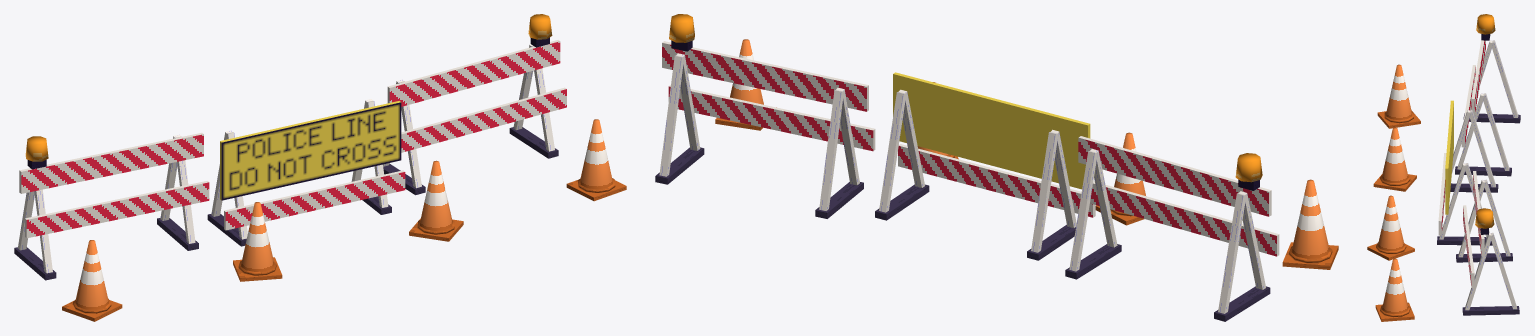
File: Police Roadblock.fbx
3 renders of one model, left to right at view 1: azimuth 30°, elevation 25°; view 2: azimuth 150°, elevation 25°; view 3: azimuth 270°, elevation 25°, orthographic. The views are drawn at different scales.
Parts seen in each view (by area): view 1: Police Roadblock barricade C top board, Police Roadblock barricade R top board, Police Roadblock barricade L top board, Police Roadblock barricade R low board, Police Roadblock barricade C low board, Police Roadblock barricade L low board, Police Roadblock cone 3 cone, Police Roadblock cone 2 cone, Police Roadblock cone 1 cone, Police Roadblock cone 0 cone, Police Roadblock barricade L leg -1 -1, Police Roadblock barricade R leg 1 -1 (+12 smaller); view 2: Police Roadblock barricade C top board, Police Roadblock barricade L top board, Police Roadblock barricade R top board, Police Roadblock barricade L low board, Police Roadblock barricade R low board, Police Roadblock barricade C low board, Police Roadblock cone 3 cone, Police Roadblock barricade R leg 1 1, Police Roadblock barricade C leg -1 1, Police Roadblock barricade R leg -1 1, Police Roadblock barricade C leg 1 1, Police Roadblock barricade L leg 1 1 (+18 smaller); view 3: Police Roadblock cone 2 cone, Police Roadblock cone 1 cone, Police Roadblock cone 0 cone, Police Roadblock cone 3 cone, Police Roadblock barricade C top board, Police Roadblock barricade L foot 1, Police Roadblock barricade R top board, Police Roadblock barricade R leg -1 1, Police Roadblock barricade R leg 1 1, Police Roadblock barricade L low board, Police Roadblock barricade C leg -1 1, Police Roadblock barricade L leg 1 -1 (+26 smaller).
Boxes of the visible parts, <box> form: Police Roadblock barricade C top board: <box>220,101,401,200</box>; Police Roadblock barricade R top board: <box>19,132,203,193</box>; Police Roadblock barricade L top board: <box>387,40,560,106</box>; Police Roadblock barricade R low board: <box>25,181,209,238</box>; Police Roadblock barricade C low board: <box>224,170,405,230</box>; Police Roadblock barricade L low board: <box>401,87,566,152</box>; Police Roadblock cone 3 cone: <box>75,240,108,309</box>; Police Roadblock cone 2 cone: <box>241,202,274,271</box>; Police Roadblock cone 1 cone: <box>420,160,452,230</box>; Police Roadblock cone 0 cone: <box>580,119,612,189</box>; Police Roadblock barricade L leg -1 -1: <box>398,81,421,188</box>; Police Roadblock barricade R leg 1 -1: <box>174,136,195,243</box>; Police Roadblock barricade C top board: <box>893,72,1090,189</box>; Police Roadblock barricade L top board: <box>662,41,868,111</box>; Police Roadblock barricade R top board: <box>1078,136,1271,216</box>; Police Roadblock barricade L low board: <box>668,85,875,151</box>; Police Roadblock barricade R low board: <box>1090,181,1279,256</box>; Police Roadblock barricade C low board: <box>898,144,1095,217</box>; Police Roadblock cone 3 cone: <box>1291,179,1329,258</box>; Police Roadblock barricade R leg 1 1: <box>1069,151,1097,271</box>; Police Roadblock barricade C leg -1 1: <box>1031,132,1058,252</box>; Police Roadblock barricade R leg -1 1: <box>1218,193,1245,313</box>; Police Roadblock barricade C leg 1 1: <box>879,91,905,212</box>; Police Roadblock barricade L leg 1 1: <box>659,55,684,176</box>; Police Roadblock cone 2 cone: <box>1381,127,1408,182</box>; Police Roadblock cone 1 cone: <box>1377,195,1404,251</box>; Police Roadblock cone 0 cone: <box>1382,258,1408,314</box>; Police Roadblock cone 3 cone: <box>1386,64,1412,120</box>; Police Roadblock barricade C top board: <box>1445,100,1453,214</box>; Police Roadblock barricade L foot 1: <box>1462,306,1519,315</box>; Police Roadblock barricade R top board: <box>1471,40,1485,115</box>; Police Roadblock barricade R leg -1 1: <box>1491,40,1518,117</box>; Police Roadblock barricade R leg 1 1: <box>1482,93,1509,170</box>; Police Roadblock barricade L low board: <box>1463,205,1474,287</box>; Police Roadblock barricade C leg -1 1: <box>1468,110,1495,187</box>; Police Roadblock barricade L leg 1 -1: <box>1465,233,1492,310</box>.
Bounding box in the file's own units: 6.21 × 1.41 × 1.9.
8 materials, 8 textured.
